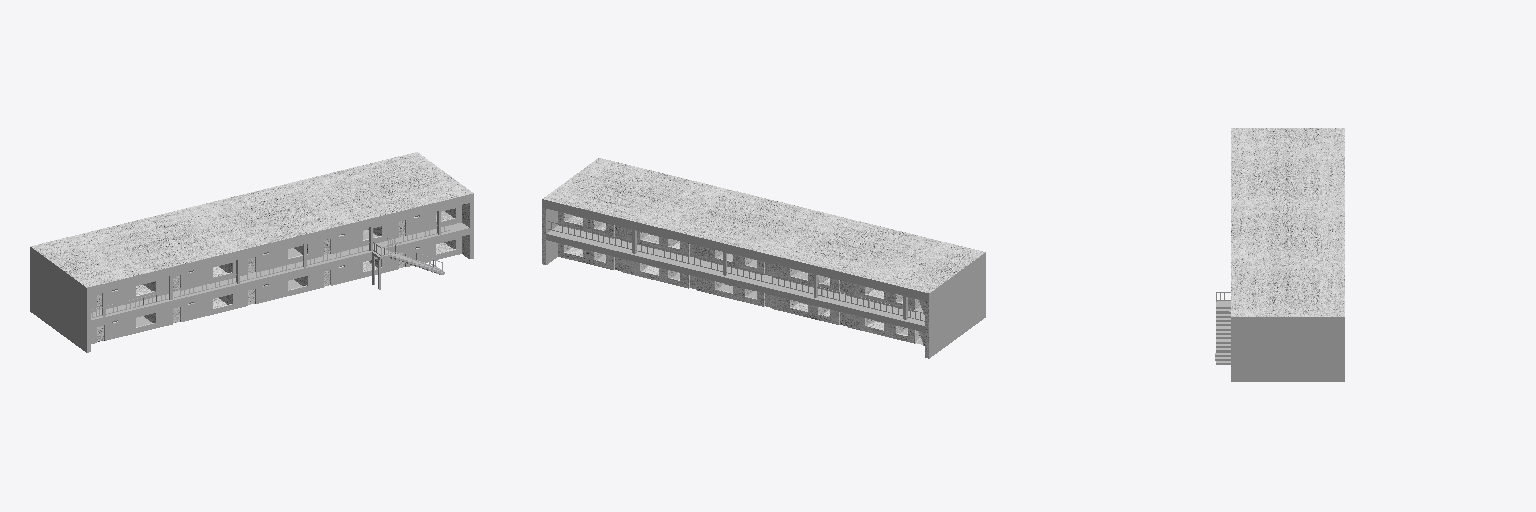
3 views of the same model, side by side, from view 1: azimuth 30°, elevation 25°; view 2: azimuth 150°, elevation 25°; view 3: azimuth 270°, elevation 25° (orthographic).
Visible parts, largest first — view 1: DEPTOMINA_-_copia, Motel.001; view 2: DEPTOMINA_-_copia, Motel.002; view 3: DEPTOMINA_-_copia, Cube.011.
Part boxes in pixels (x1,y1,x2,y2): DEPTOMINA_-_copia: (30,152,473,352); Motel.001: (92,221,455,317); DEPTOMINA_-_copia: (542,158,985,358); Motel.002: (548,221,924,321); DEPTOMINA_-_copia: (1231,128,1344,381); Cube.011: (1215,301,1230,364).
Size of the model in its own units: 51.52 by 8.46 by 14.87.
8 materials, 1 textured.